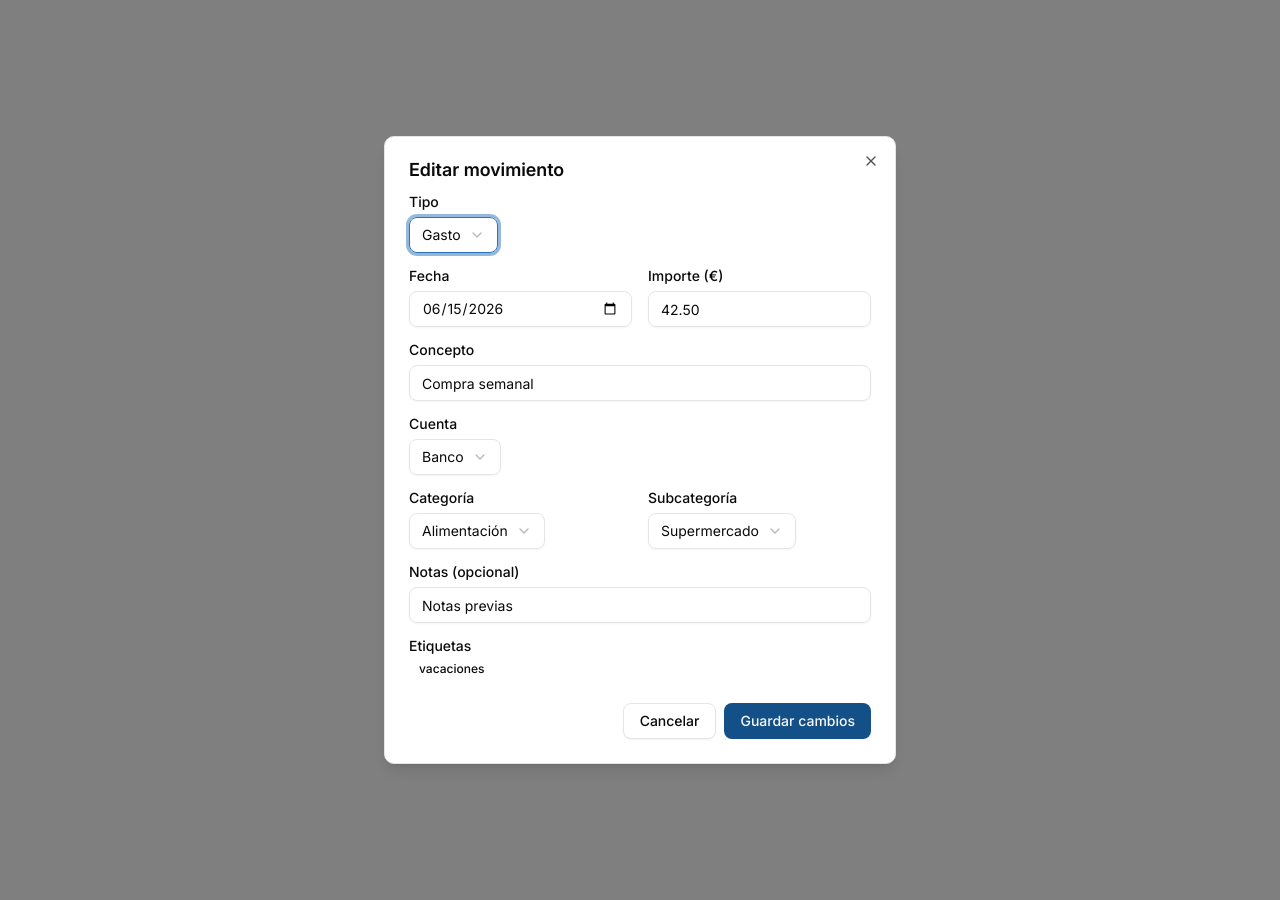
Test: TransactionForm — categorías › cambiar de categoría limpia la subcategoría anterior
Click the dropdown named "Categoría" at (477, 531), box [409, 513, 545, 549]
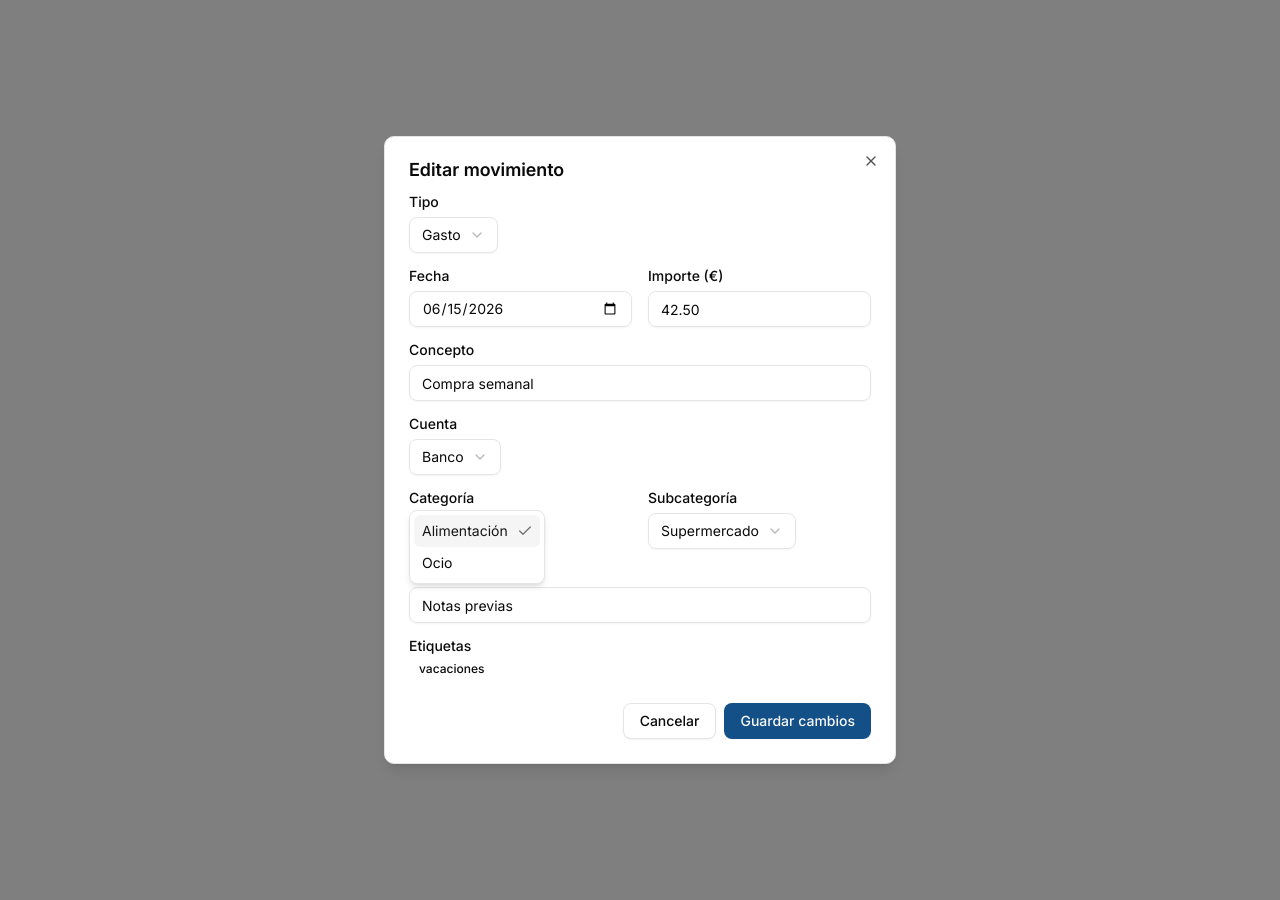
Click the option "Ocio" at (437, 562), box [422, 554, 452, 571]
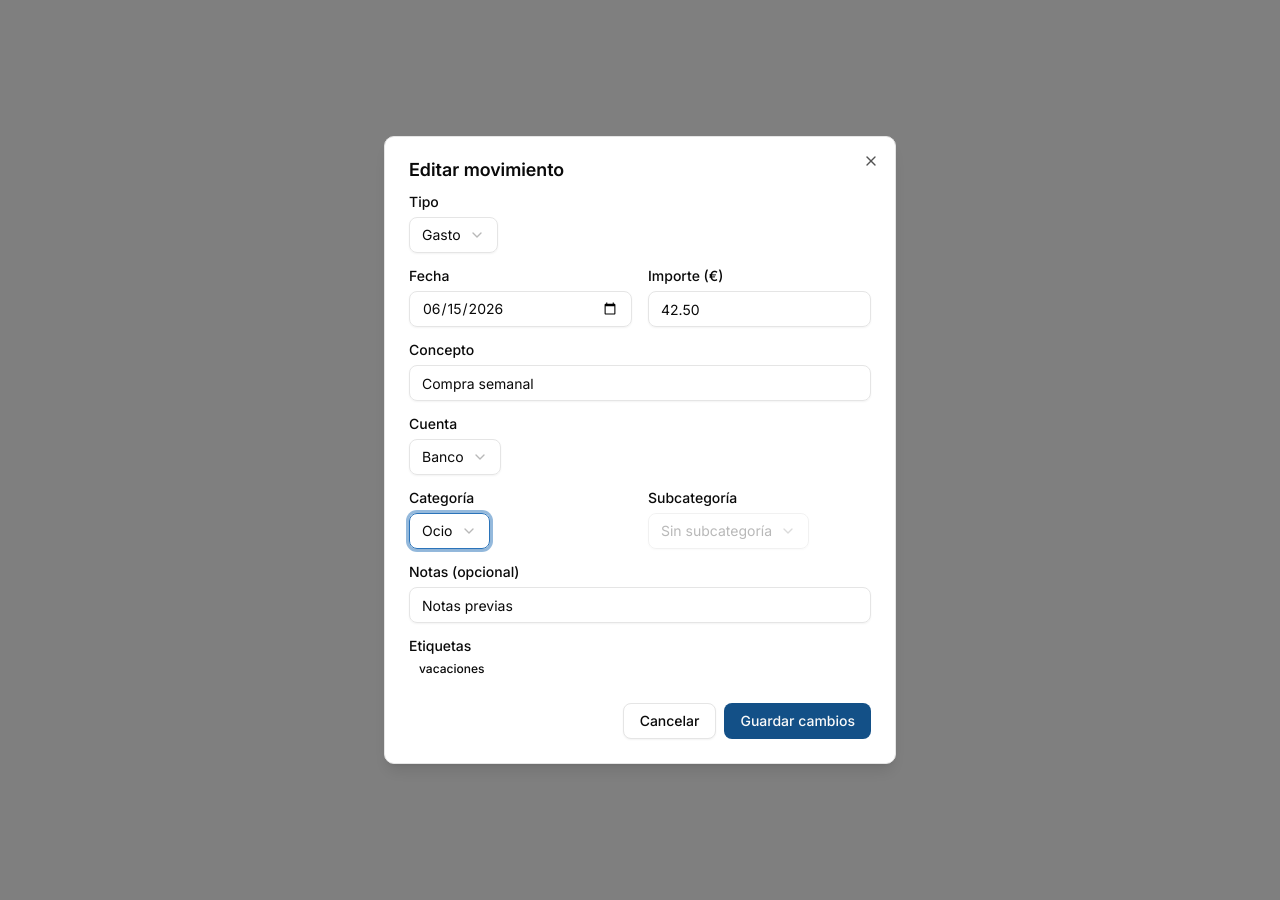
Expected: the text "Sin subcategoría" is shown, [661, 521, 772, 541]
